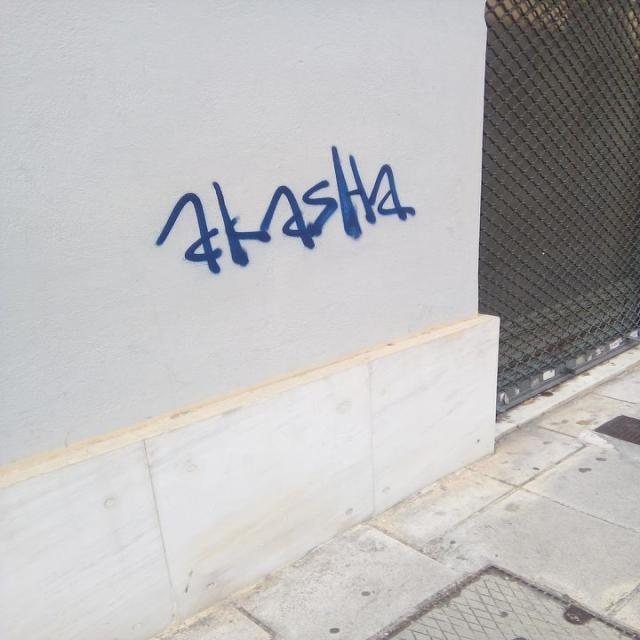nonspitting: (152, 142, 418, 274)
